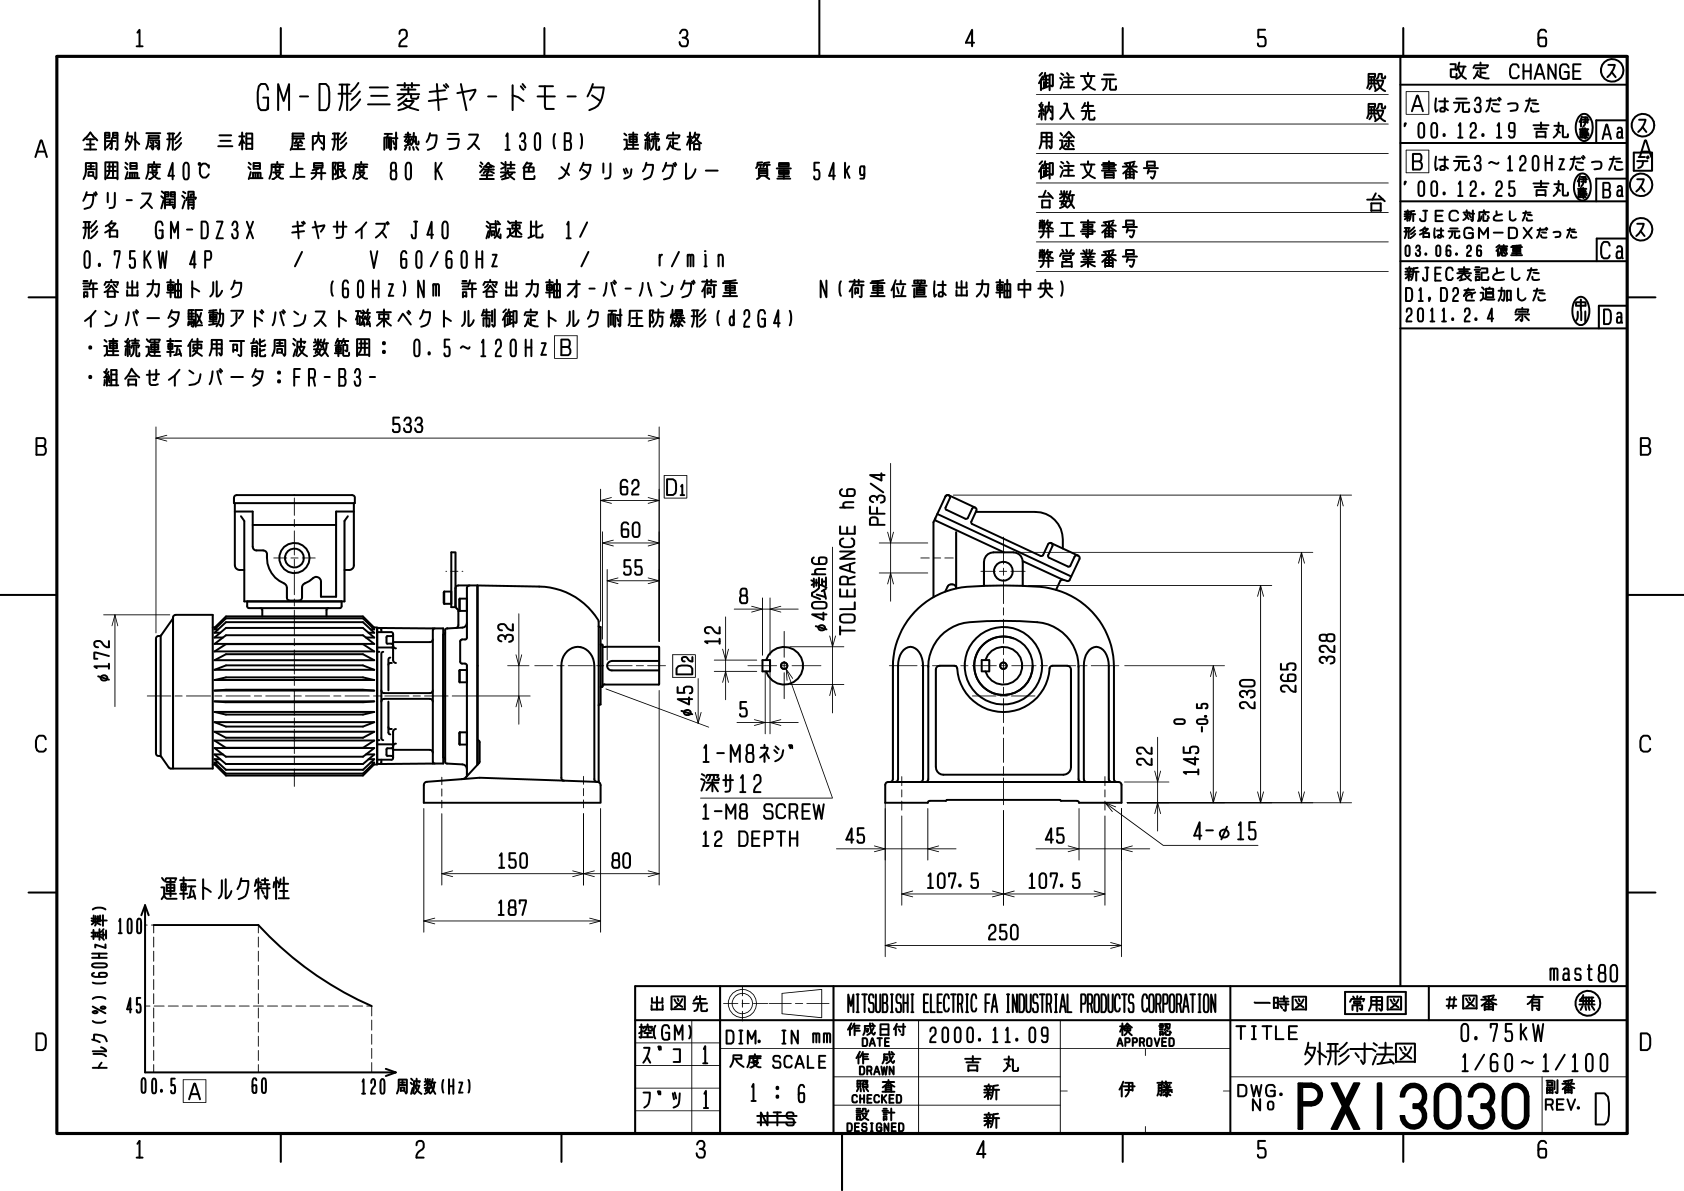GM_D_制御屋内_三相_脚: (13, 6, 1684, 1191)
